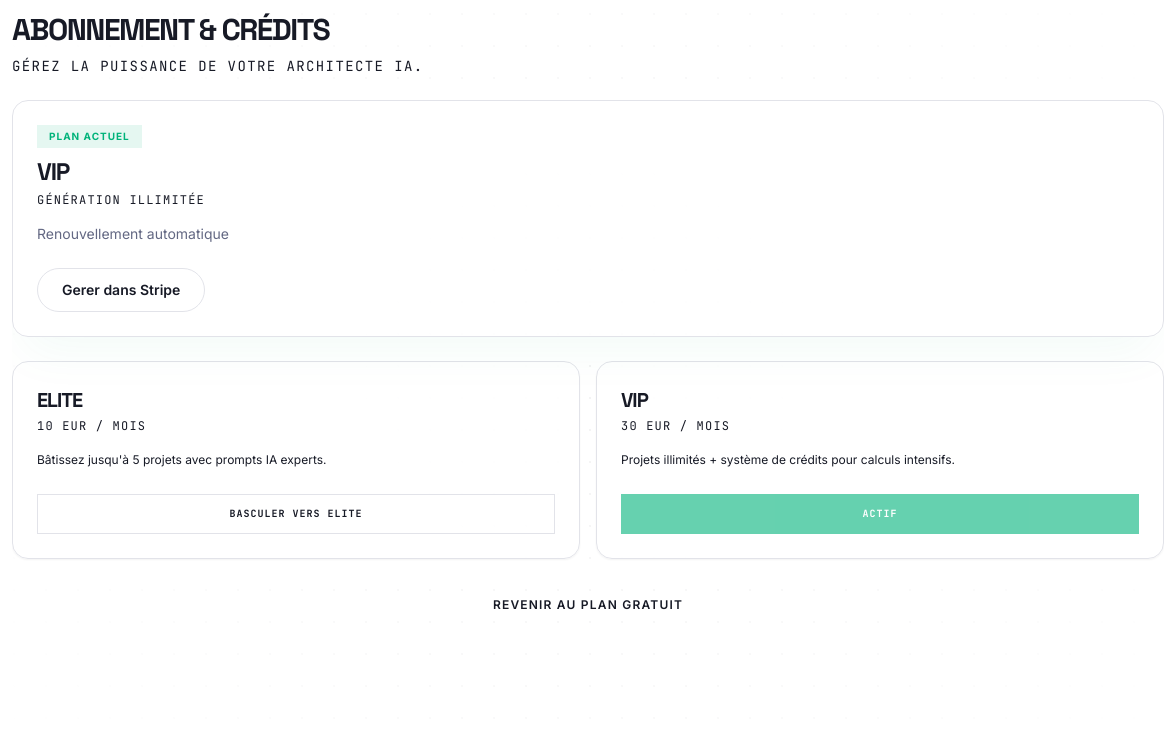
Test: Billing page › blocks redirect when portal URL is invalid
This screenshot has width=1164, height=732.
Click the button "Gerer dans Stripe". click: (121, 290)
box: [37,268,205,312]
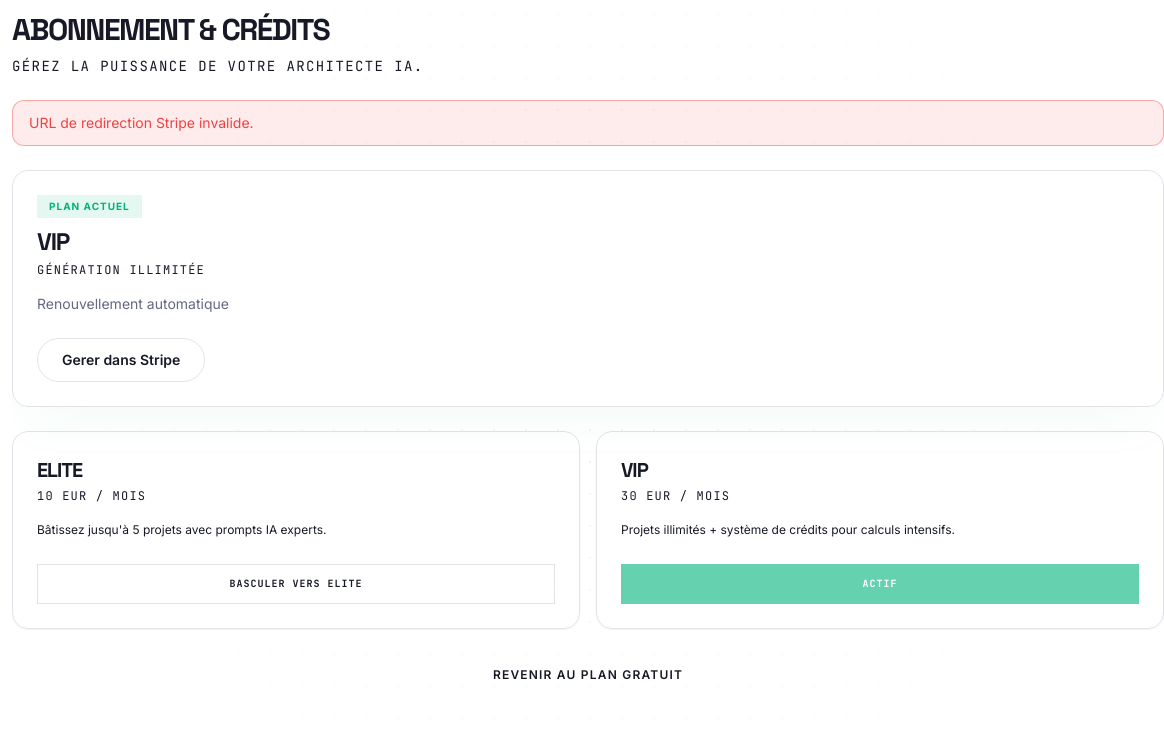
Result: the text "URL de redirection Stripe invalide." is shown at [12,100,1163,146]
